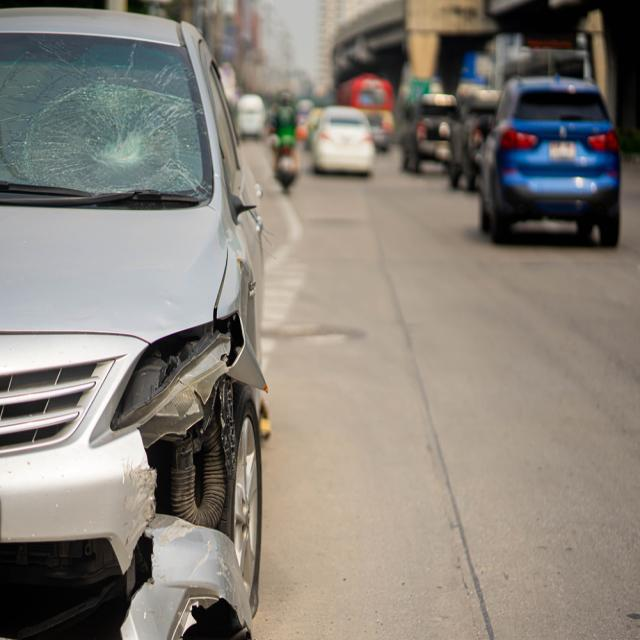Dechirure: (122, 482, 158, 627)
Fissure: (3, 31, 208, 203)
Phare abime: (97, 293, 245, 461)
Rayure: (122, 459, 192, 561), (193, 521, 242, 603)
